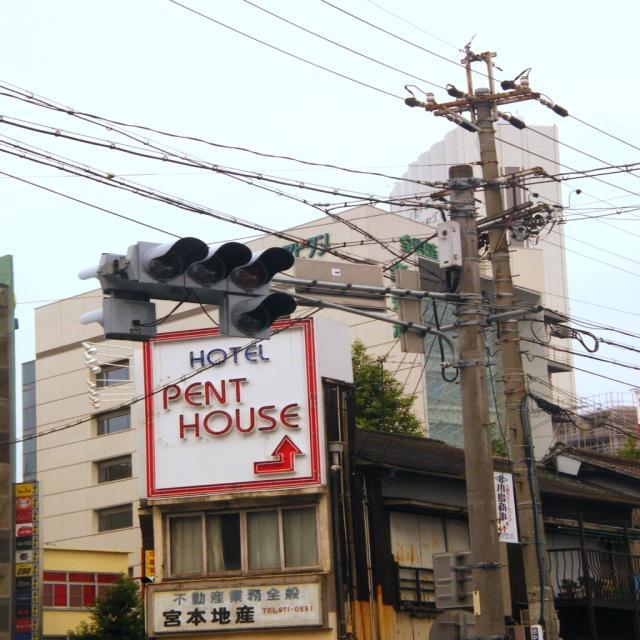off traffic light: (132, 236, 296, 338)
